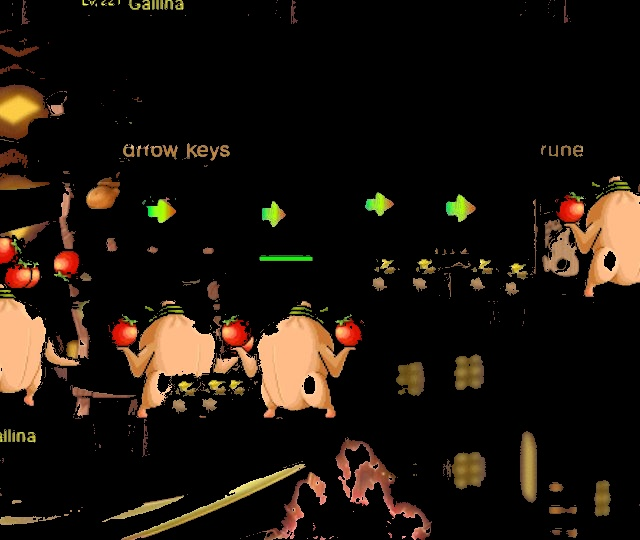right: (441, 192, 479, 226), (257, 197, 292, 231), (142, 196, 180, 227), (361, 188, 398, 219)
